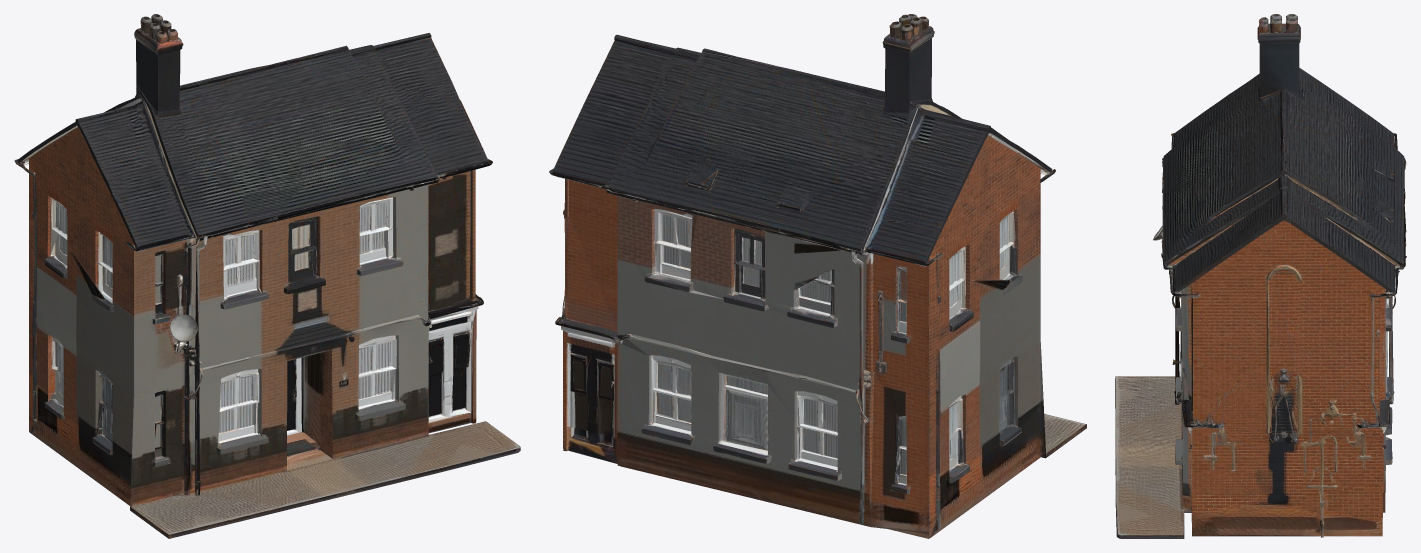
File: arch_row_house_01.glb
3 renders of one model, left to right at view 1: azimuth 30°, elevation 25°; view 2: azimuth 150°, elevation 25°; view 3: azimuth 270°, elevation 25°, orthographic. The views are drawn at different scales.
Bounding box in the file's own units: 7.88 × 9 × 5.98.
1 material, 1 textured.
